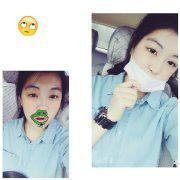NONE: (22, 83, 65, 129)
WRONG: (121, 37, 177, 93)
